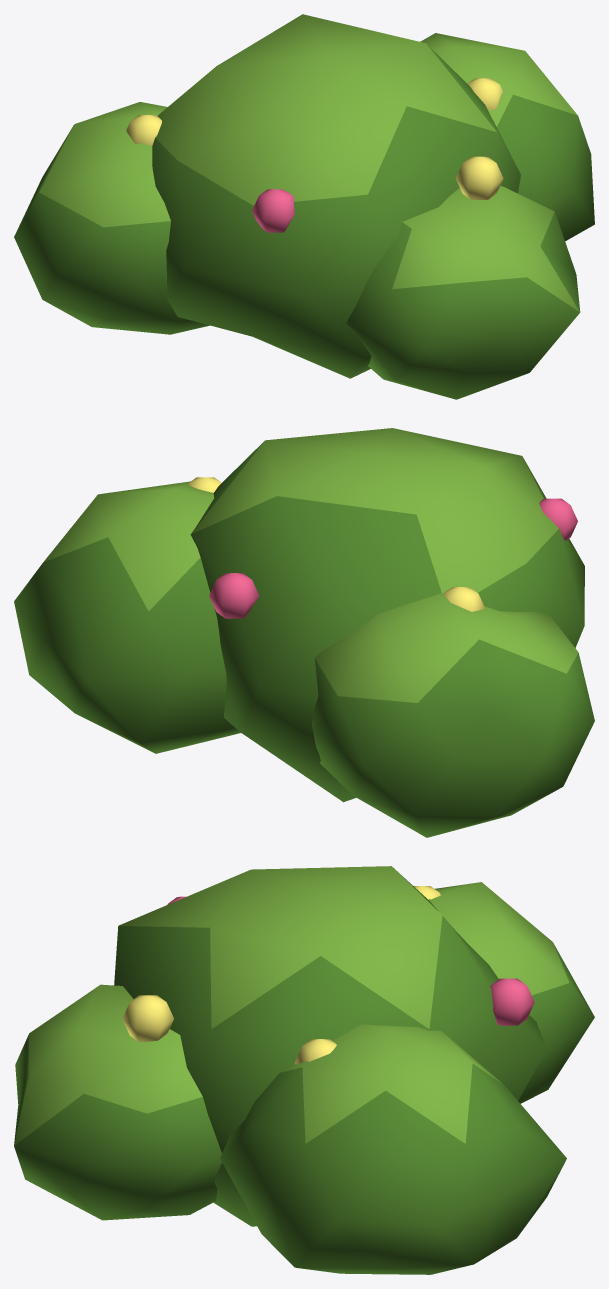
Rendered from Bush.glb.
The picture shows the model from 3 angles, top to bottom: view 1: azimuth 30°, elevation 25°; view 2: azimuth 150°, elevation 25°; view 3: azimuth 270°, elevation 25°; orthographic projection. The views are drawn at different scales.
Parts seen in each view (by area): view 1: Bush; view 2: Bush; view 3: Bush.
Boxes of the visible parts, x1,y1,x2,y2 form: Bush: (14,14,594,399); Bush: (14,428,594,837); Bush: (14,866,594,1274).
Size of the model in its own units: 3.04 by 1.68 by 2.68.
